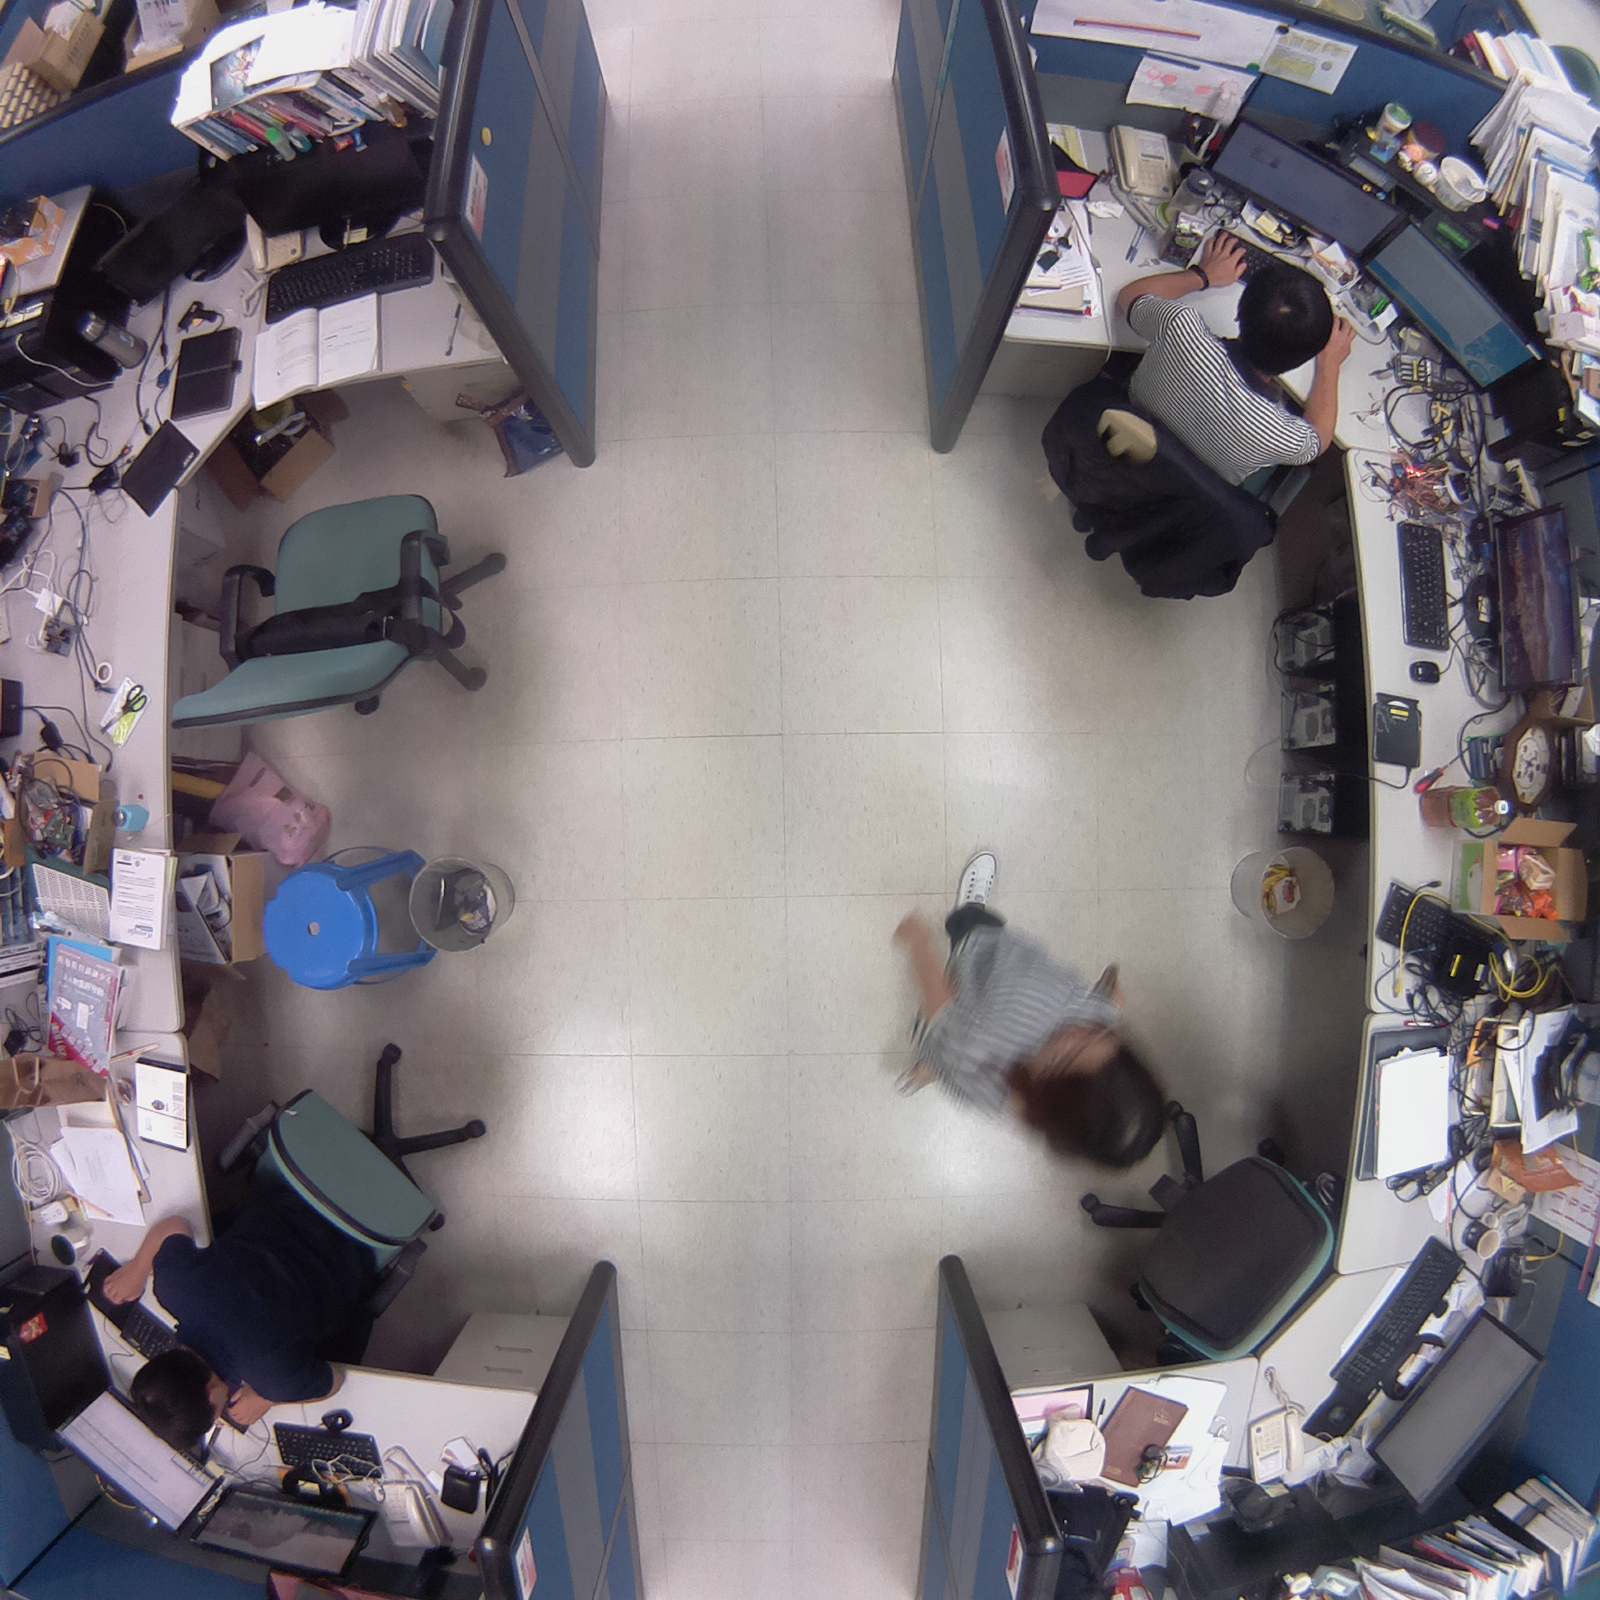chair: (153, 473, 535, 763), (1073, 1093, 1365, 1383)
head: (1005, 1017, 1170, 1178), (1230, 257, 1339, 374), (124, 1347, 233, 1457)
sitting: (94, 1027, 506, 1460), (1024, 240, 1373, 619)
walking: (860, 822, 1201, 1191)
